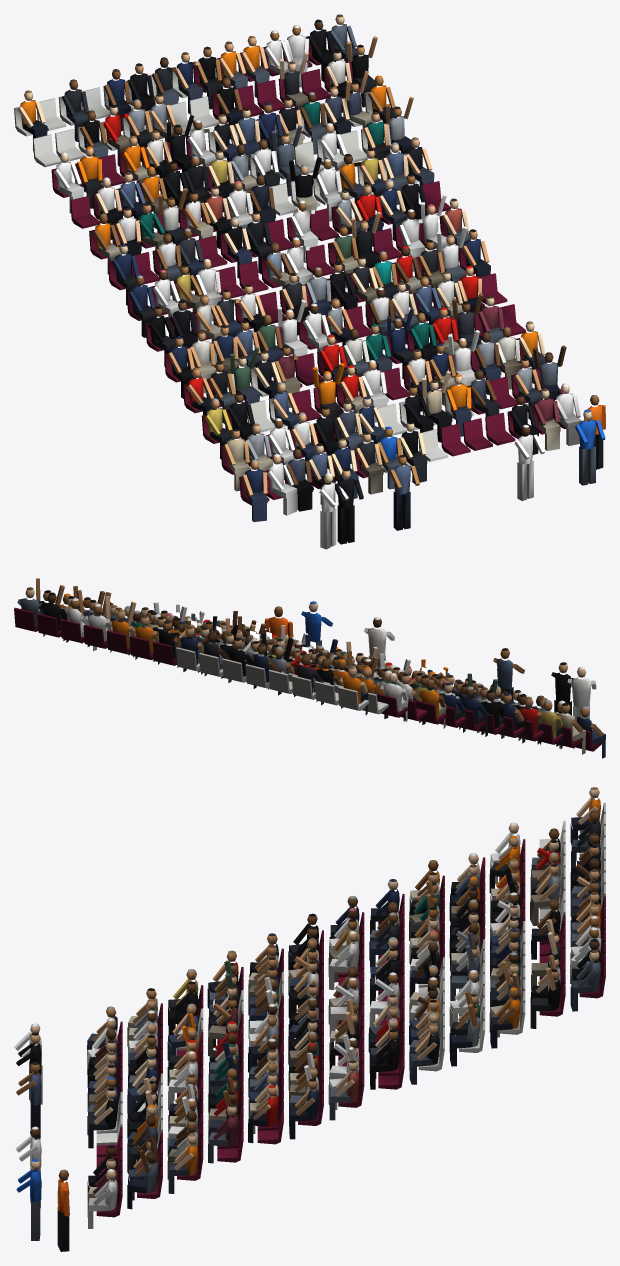
The model's file is stand_academy_kit_3.glb.
The picture shows the model from 3 angles, top to bottom: view 1: azimuth 30°, elevation 25°; view 2: azimuth 150°, elevation 25°; view 3: azimuth 270°, elevation 25°; orthographic projection. The views are drawn at different scales.
Visible parts, largest first — view 1: kit_3; view 2: kit_3; view 3: kit_3.
Part boxes in pixels (box(x1,y1,x2,y2)): kit_3: box(14, 14, 605, 549); kit_3: box(14, 578, 605, 758); kit_3: box(14, 787, 605, 1251).
Bounding box in the file's own units: 8.48 × 6.45 × 11.76.
